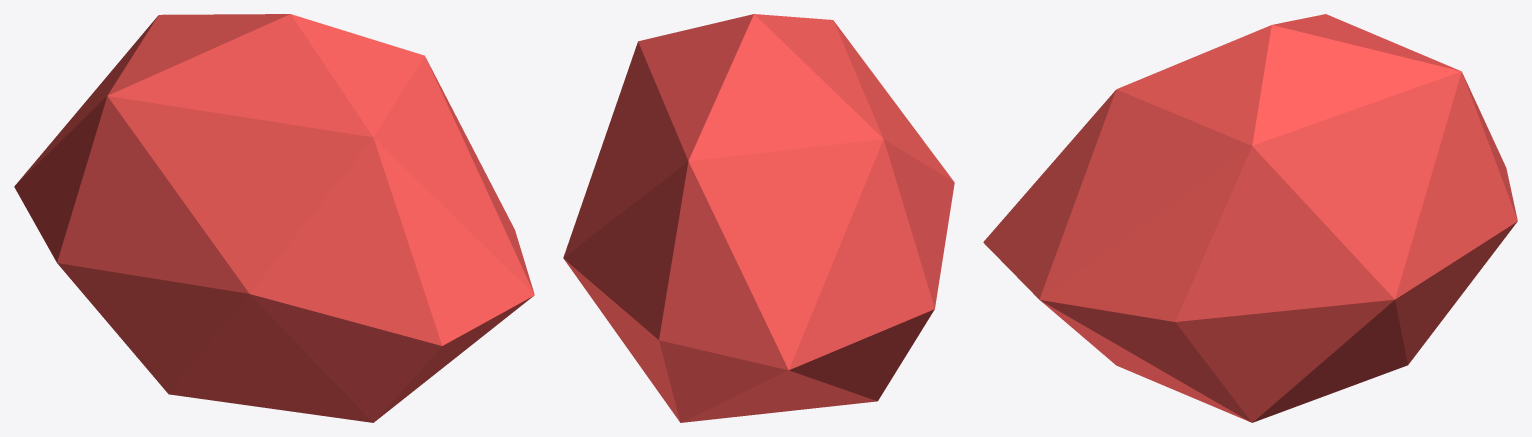
The model's file is Bush_Mesh.FBX.
3 renders of one model, left to right at view 1: azimuth 30°, elevation 25°; view 2: azimuth 150°, elevation 25°; view 3: azimuth 270°, elevation 25°, orthographic. The views are drawn at different scales.
Parts seen in each view (by area): view 1: GeoSphere003; view 2: GeoSphere003; view 3: GeoSphere003.
Part boxes in pixels (x1,y1,x2,y2): GeoSphere003: [14, 14, 534, 422]; GeoSphere003: [563, 14, 954, 422]; GeoSphere003: [983, 14, 1517, 422].
Bounding box in the file's own units: 105 × 95.25 × 132.
